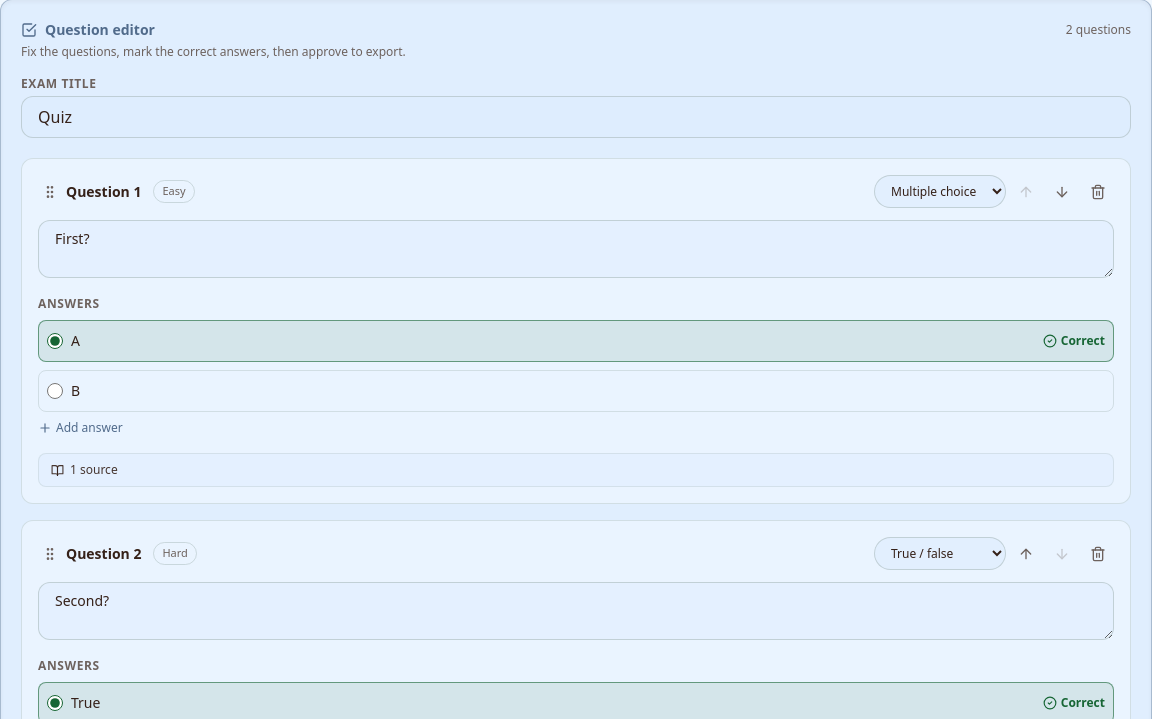
Test case: TestEditor › blocks submit and focuses the error list when a question is empty
Clear the text box with placeholder "Question text" below "Question 1" at [576, 249], box [38, 220, 1114, 278]
(page scrolled)
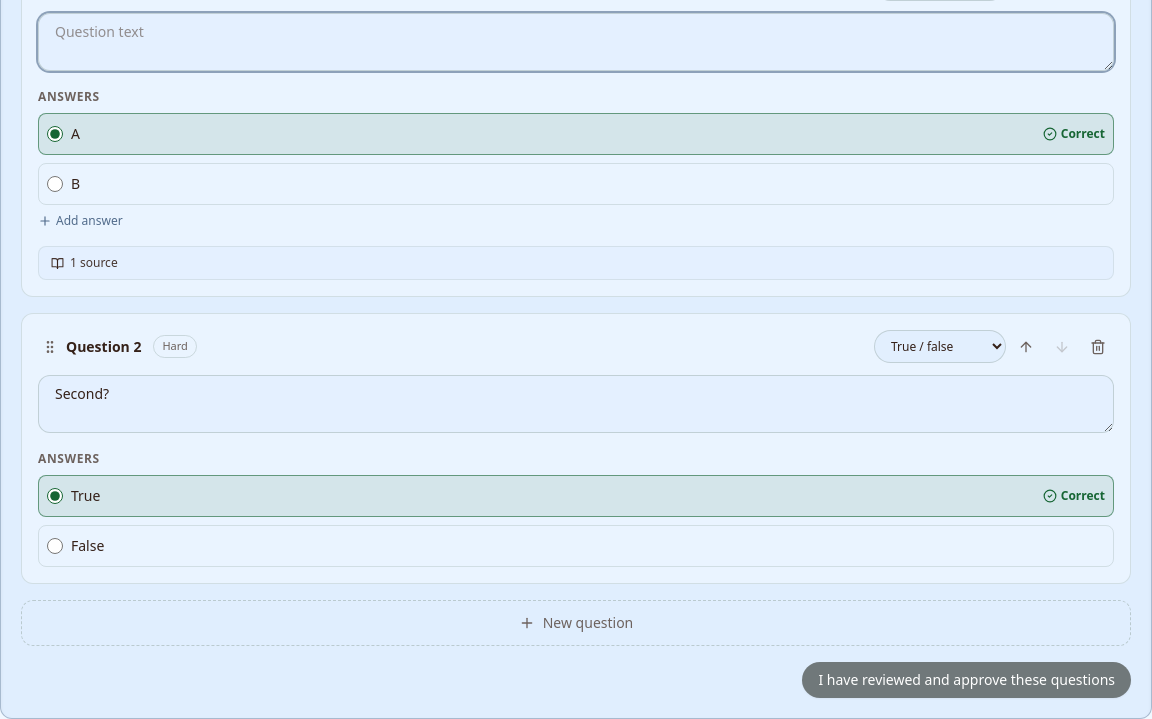
Click the button "I have reviewed and approve these questions" at [967, 680], box [802, 662, 1131, 698]
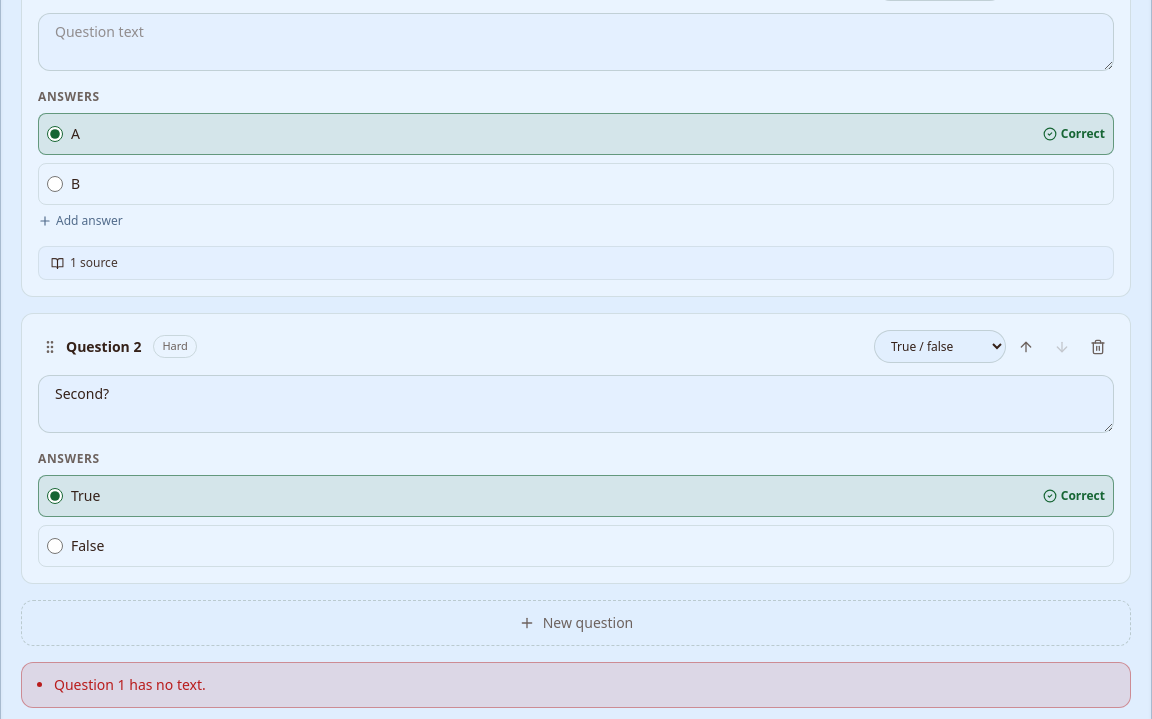
Now the message reads "Question 1 has no text.", box [54, 675, 206, 694]
